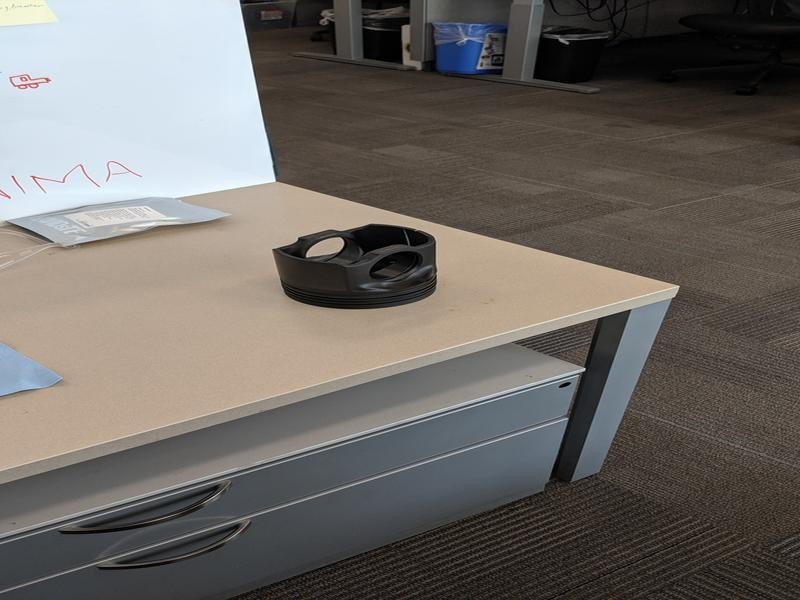piston: (267, 220, 442, 313)
